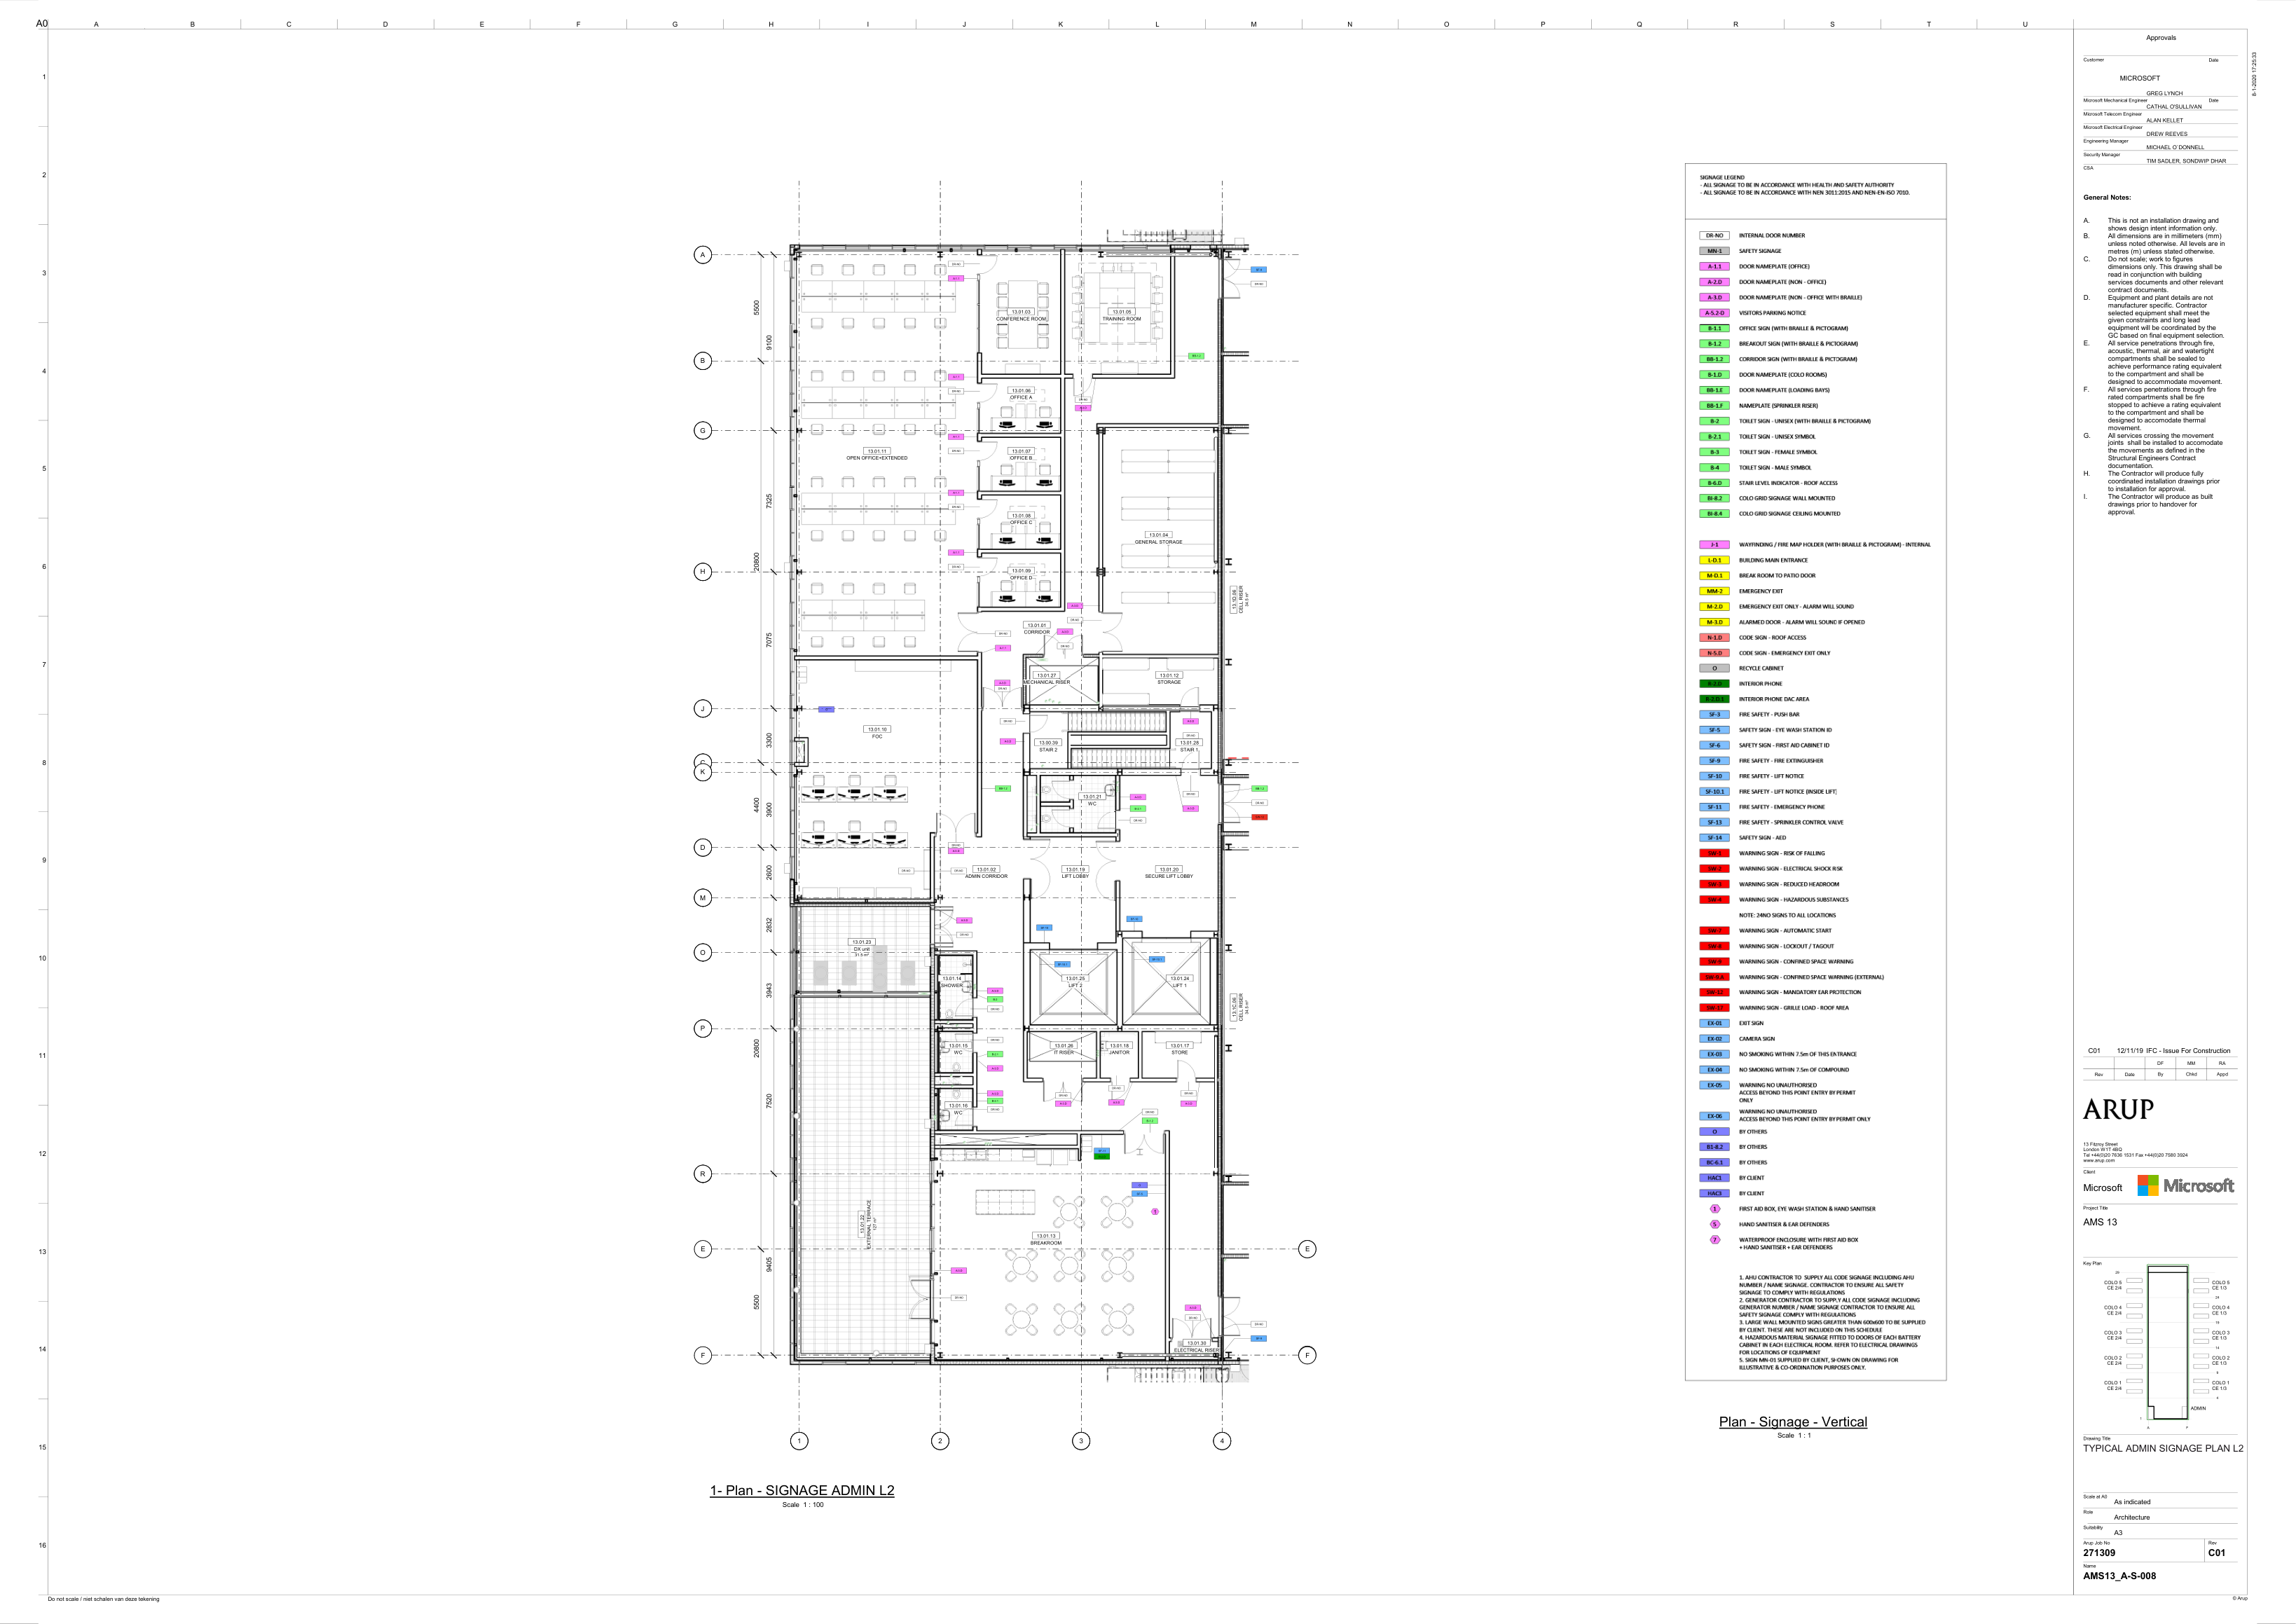Legend: (1686, 163, 1946, 1379)
